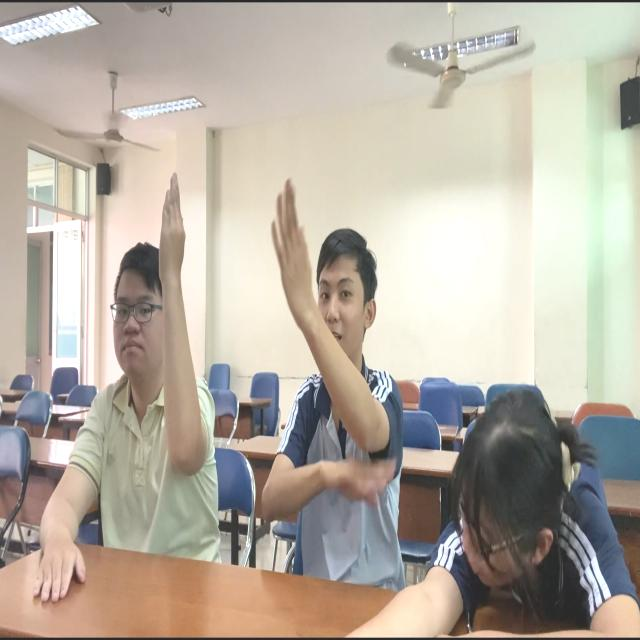raise_hand: (56, 158, 228, 578)
sleep: (434, 396, 640, 640)
